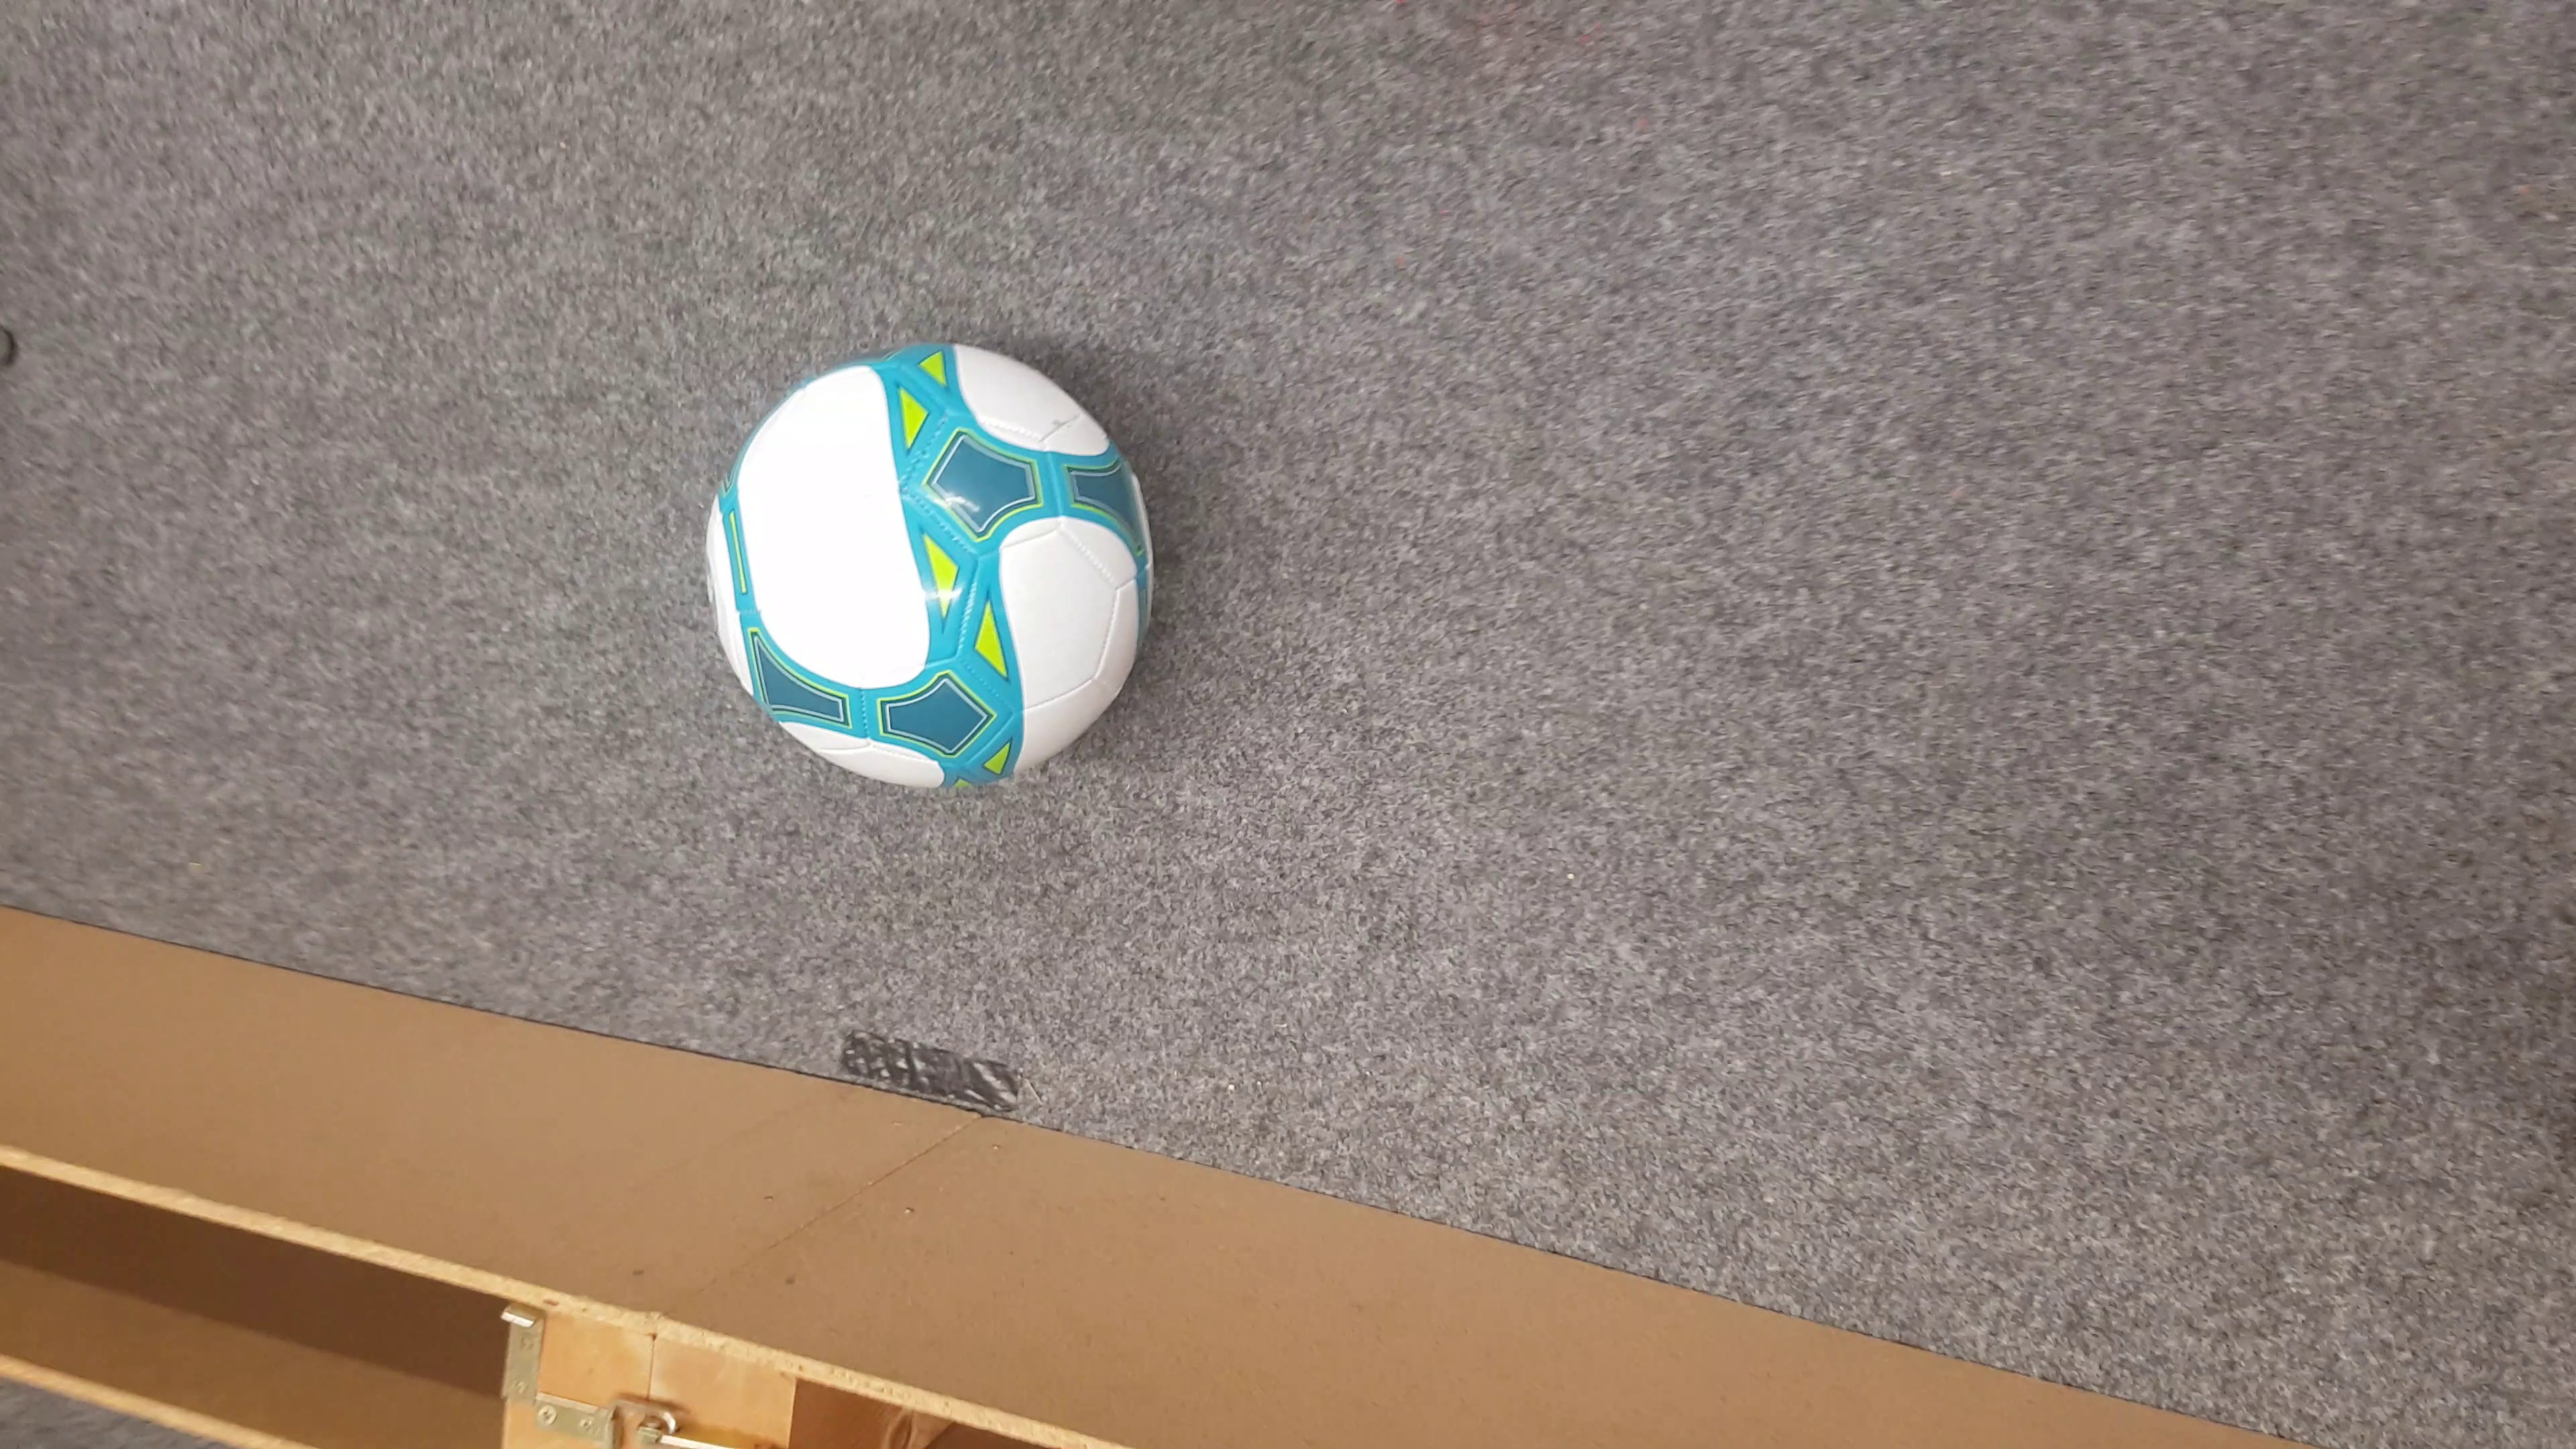kick: (708, 336, 1159, 786)
